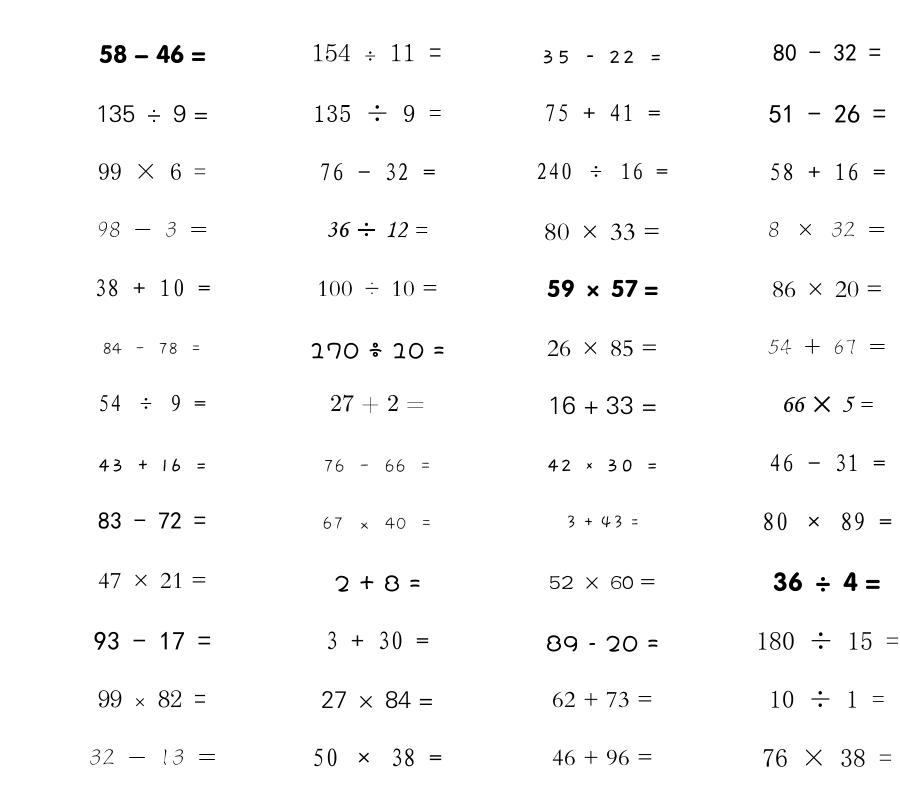MQ: (756, 631, 899, 650), (312, 43, 442, 62), (762, 512, 892, 531), (312, 748, 442, 767), (536, 162, 668, 180), (762, 749, 892, 767), (313, 104, 442, 122), (309, 342, 445, 359), (769, 104, 886, 123), (94, 631, 211, 650), (773, 572, 881, 592), (89, 749, 216, 766), (99, 44, 206, 64), (547, 279, 658, 298), (544, 104, 661, 122), (319, 163, 436, 181), (769, 163, 886, 181), (94, 279, 211, 297), (769, 454, 886, 472), (544, 223, 660, 241), (769, 690, 885, 708), (548, 396, 657, 415), (317, 280, 438, 297), (96, 105, 209, 123), (321, 691, 434, 709), (325, 631, 429, 650), (773, 44, 881, 62), (98, 394, 206, 412), (98, 690, 206, 708), (546, 635, 659, 652), (768, 221, 886, 237), (768, 339, 886, 355), (772, 281, 883, 298), (547, 340, 658, 357), (98, 572, 207, 589), (98, 163, 206, 180), (98, 512, 206, 529), (330, 394, 425, 413), (97, 221, 208, 237), (326, 221, 428, 238), (552, 691, 653, 708), (552, 749, 653, 766), (541, 50, 663, 64), (781, 396, 873, 413), (97, 458, 208, 472), (322, 516, 433, 530), (323, 459, 432, 473), (549, 575, 655, 589), (334, 575, 421, 592), (546, 459, 659, 472), (102, 342, 202, 355), (565, 515, 640, 529)
